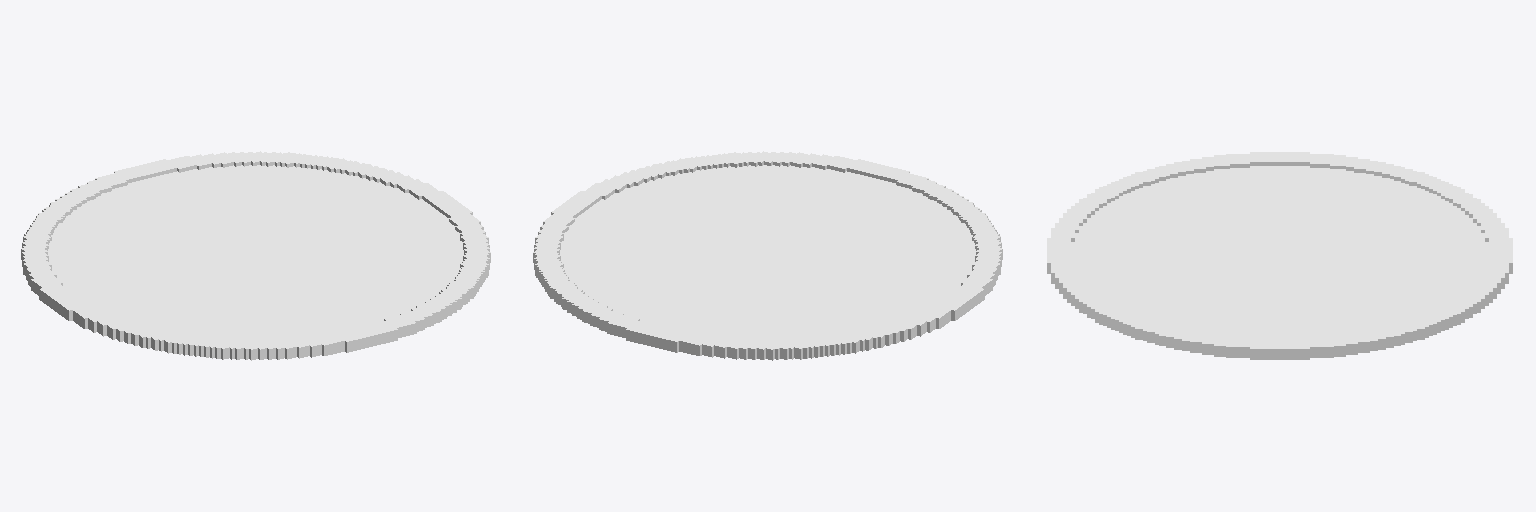
Rendered from lava_field.obj.
3 renders of one model, left to right at view 1: azimuth 30°, elevation 25°; view 2: azimuth 150°, elevation 25°; view 3: azimuth 270°, elevation 25°, orthographic.
Visible parts, largest first — view 1: lava_field; view 2: lava_field; view 3: lava_field.
Part boxes in pixels (bbox=[...]): lava_field: bbox=[21, 151, 490, 360]; lava_field: bbox=[533, 151, 1002, 360]; lava_field: bbox=[1047, 152, 1512, 359].
Bounding box in the file's own units: 117 × 3 × 117.